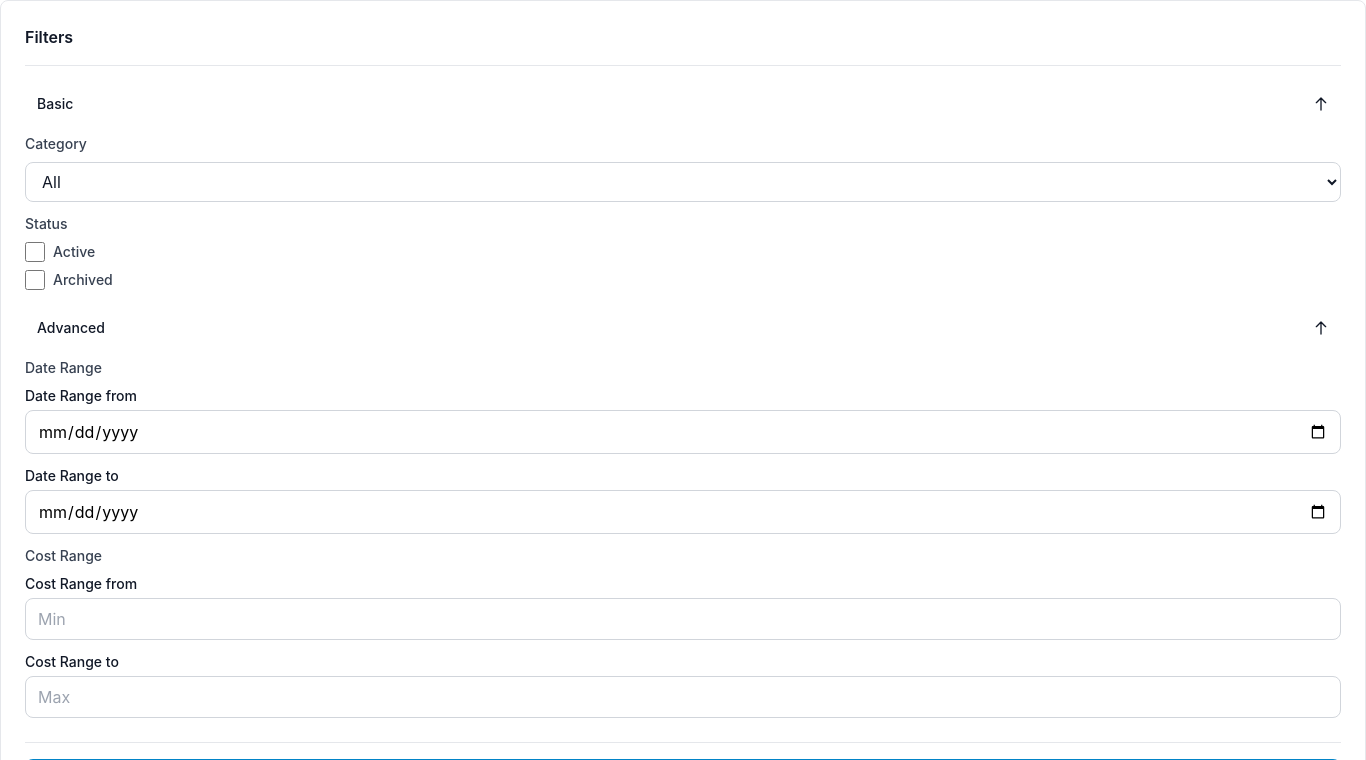
Test: FilterPanel - Unit Tests › Collapsible Sections › should expand section on click
Click the button "Advanced" at (71, 328), box 25,306 -> 1341,350
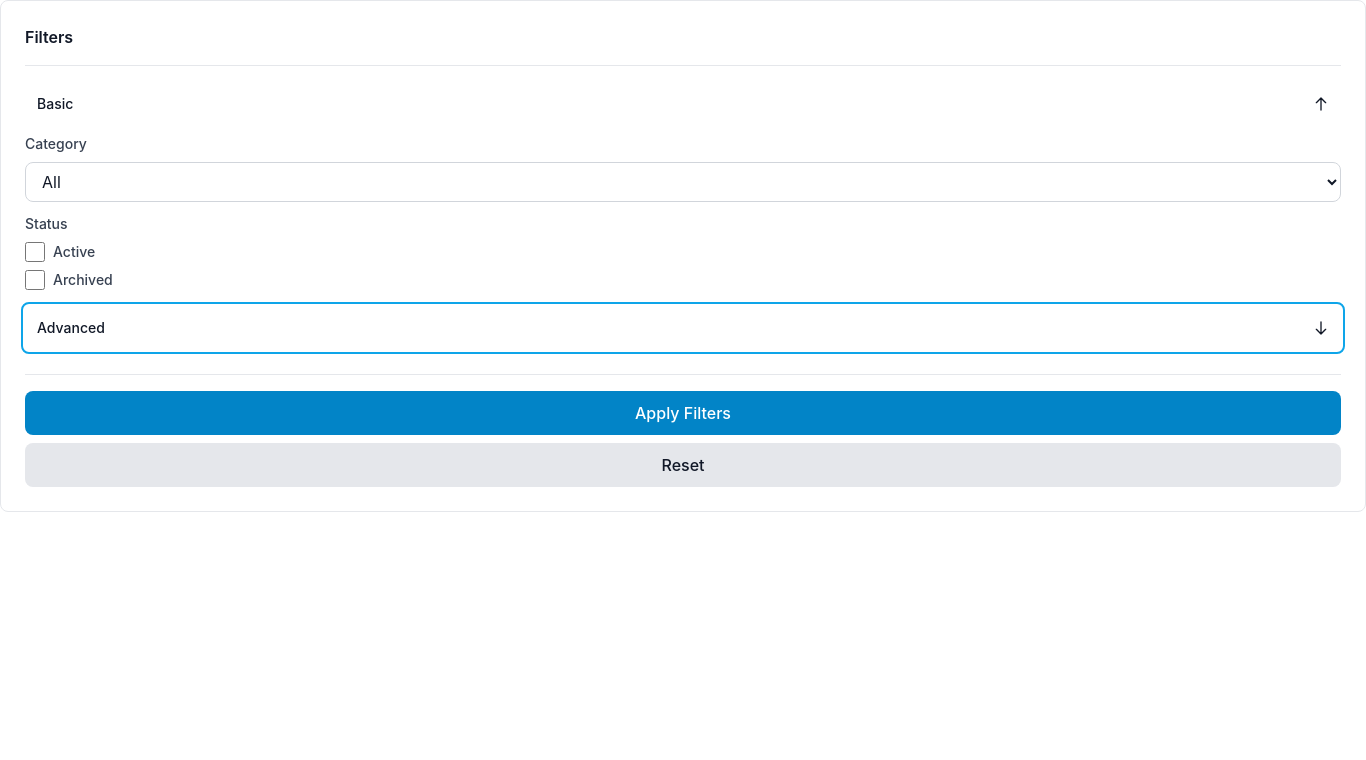
Result: the button "Advanced" is collapsed
Click the button "Advanced" at (71, 328), box 25,306 -> 1341,350
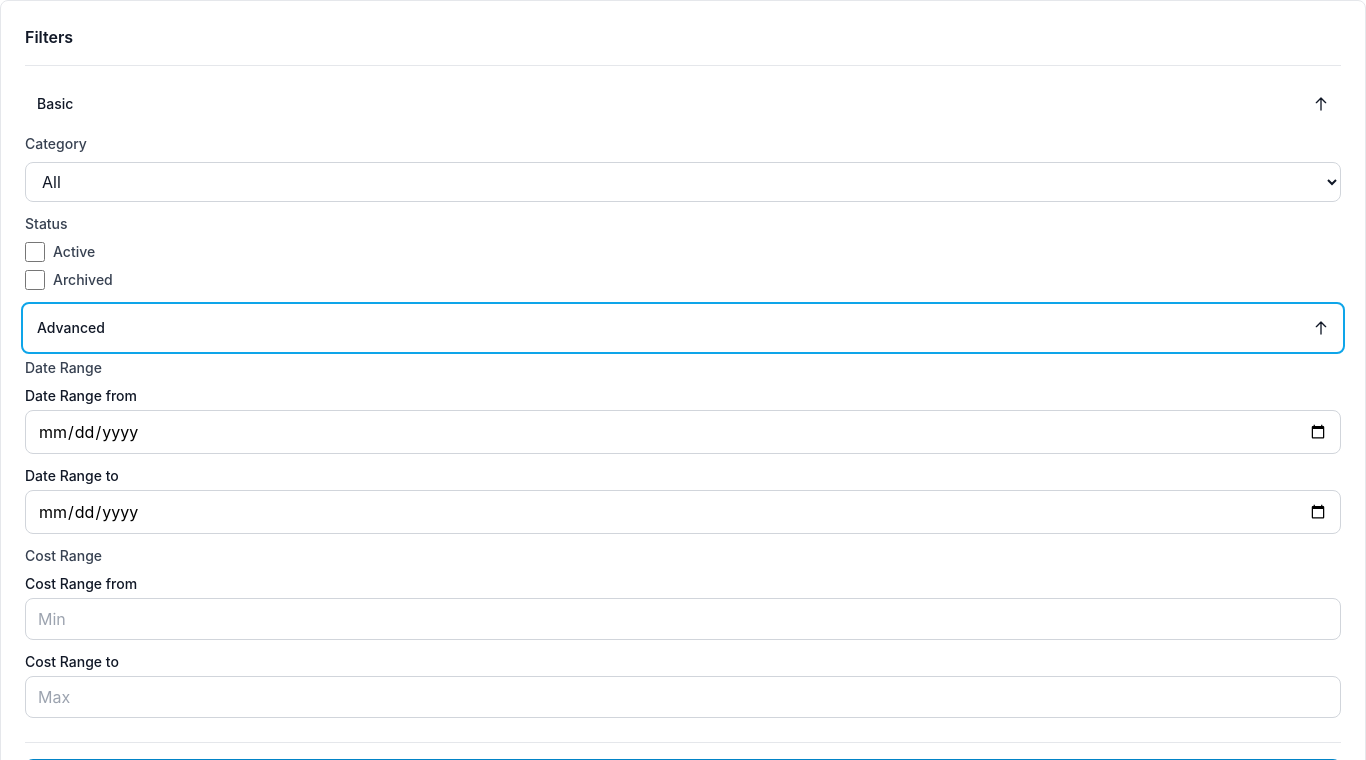
Result: the button "Advanced" is expanded at 25,306 -> 1341,350
